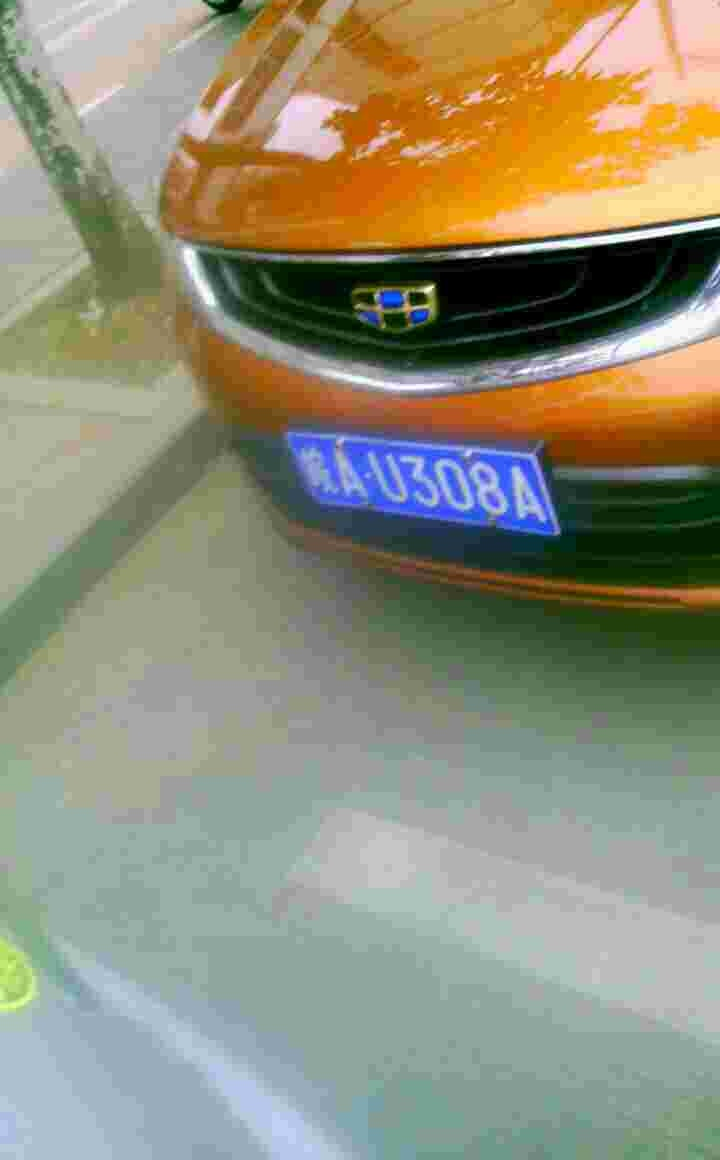license_plate: (299, 439, 550, 538)
